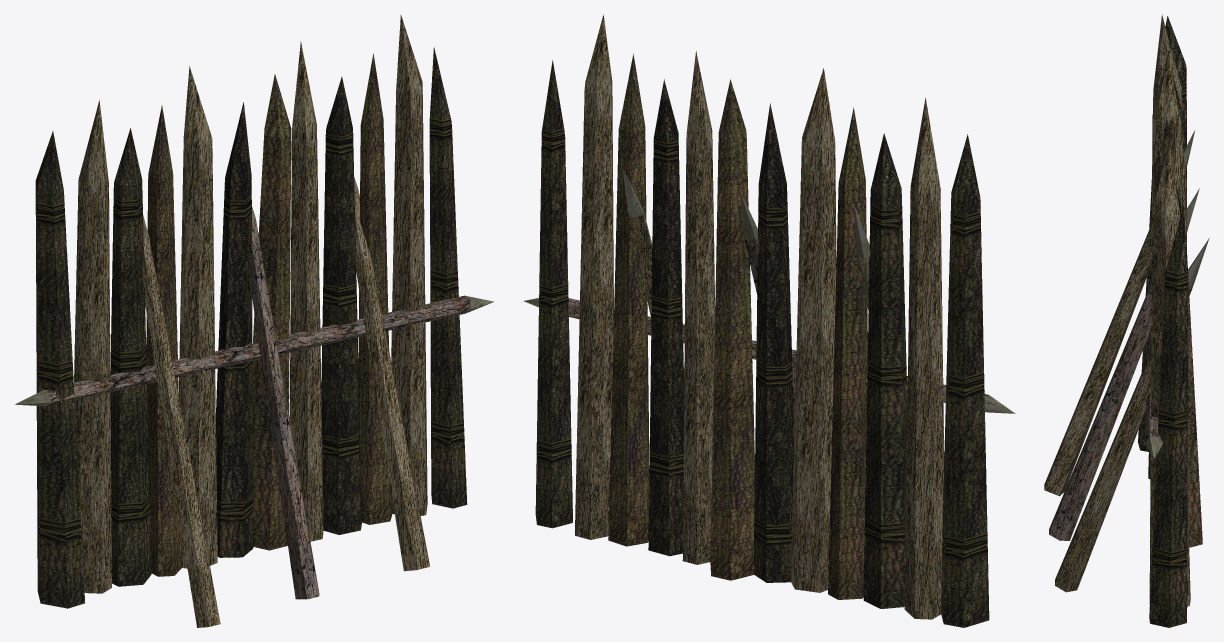
File: palisada2.glb
3 views of the same model, side by side, from view 1: azimuth 30°, elevation 25°; view 2: azimuth 150°, elevation 25°; view 3: azimuth 270°, elevation 25° (orthographic). The views are drawn at different scales.
Visible parts, largest first — view 1: zengin; view 2: zengin; view 3: zengin.
Boxes of the visible parts, bbox=[...] form: zengin: bbox=[15, 15, 493, 627]; zengin: bbox=[523, 14, 1015, 627]; zengin: bbox=[1044, 14, 1209, 627].
Bounding box in the file's own units: 3.17 × 3.22 × 1.04.
Materials: 5 (5 with a texture image).
